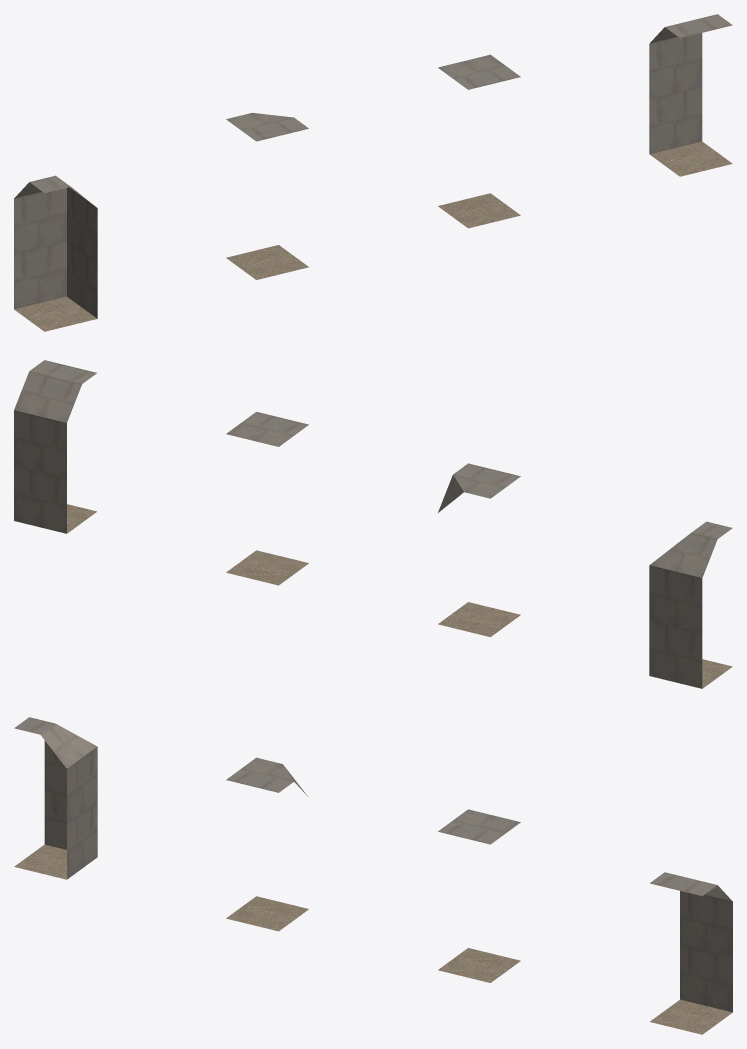
The picture shows the model from 3 angles, top to bottom: view 1: azimuth 30°, elevation 25°; view 2: azimuth 150°, elevation 25°; view 3: azimuth 330°, elevation 25°; orthographic projection.
Parts seen in each view (by area): view 1: corner-in, wall, floor-ceil, corner-out; view 2: wall, corner-in, corner-out, floor-ceil; view 3: wall, corner-in, floor-ceil, corner-out.
Boxes of the visible parts, x1=… form: corner-in: x1=14, y1=175, x2=97, y2=331; wall: x1=649, y1=14, x2=732, y2=176; floor-ceil: x1=438, y1=54, x2=520, y2=228; corner-out: x1=226, y1=112, x2=308, y2=279; wall: x1=14, y1=360, x2=96, y2=533; corner-in: x1=649, y1=521, x2=732, y2=688; corner-out: x1=438, y1=463, x2=520, y2=636; floor-ceil: x1=226, y1=412, x2=308, y2=585; wall: x1=650, y1=872, x2=732, y2=1034; corner-in: x1=14, y1=717, x2=97, y2=879; floor-ceil: x1=438, y1=809, x2=520, y2=982; corner-out: x1=226, y1=757, x2=308, y2=931.
Bounding box in the file's own units: 13 × 2.5 × 1.
1 material, 1 textured.
